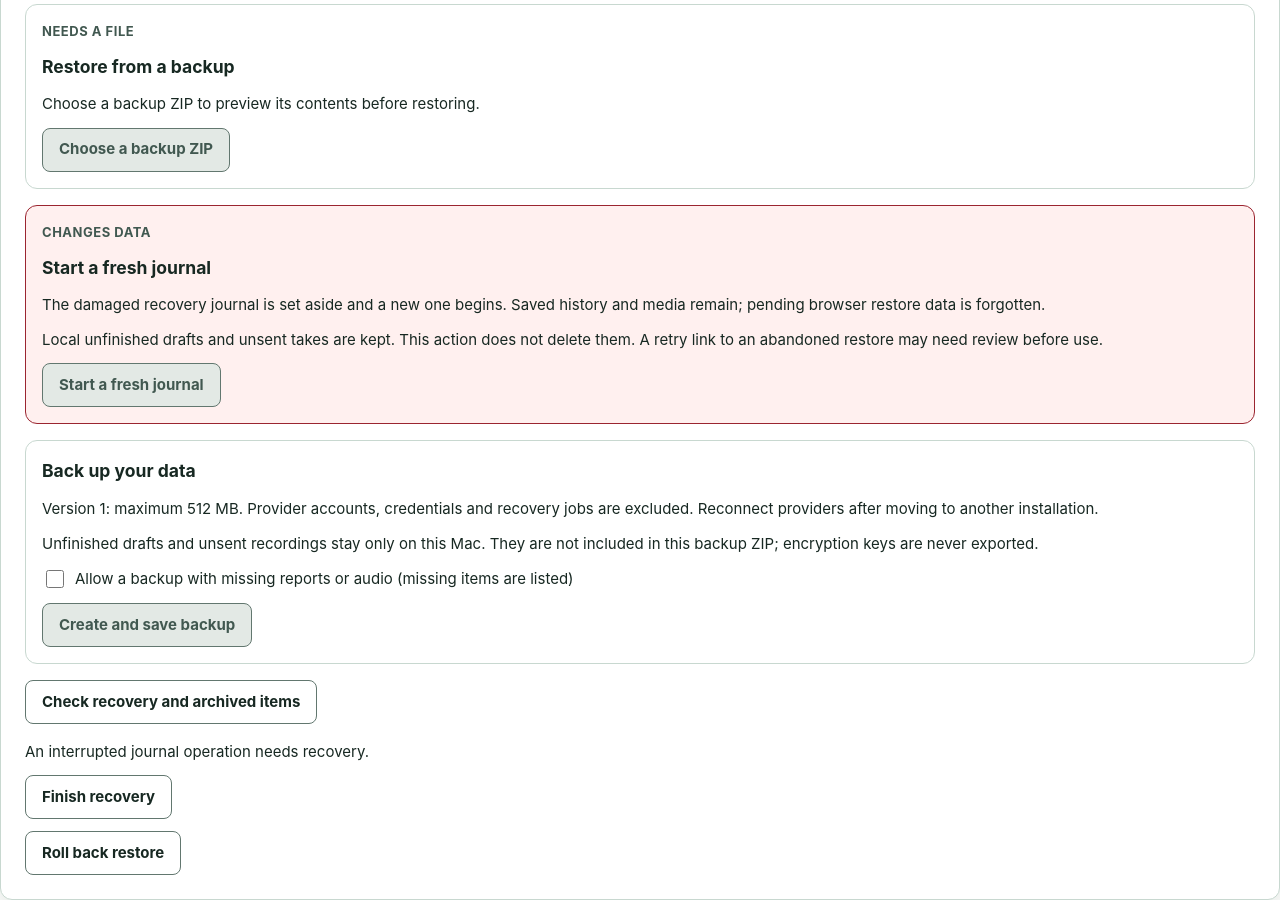
Test: journal recovery visibility › focuses the heading for a disabled fragment and retries the action when recovery enables it
This screenshot has width=1280, height=900.
(page scrolled)
Check: the button "Start a fresh journal" is disabled, box [42,363,221,407]
Click the button "Check recovery and archived items": click(171, 702) [25,680,317,724]
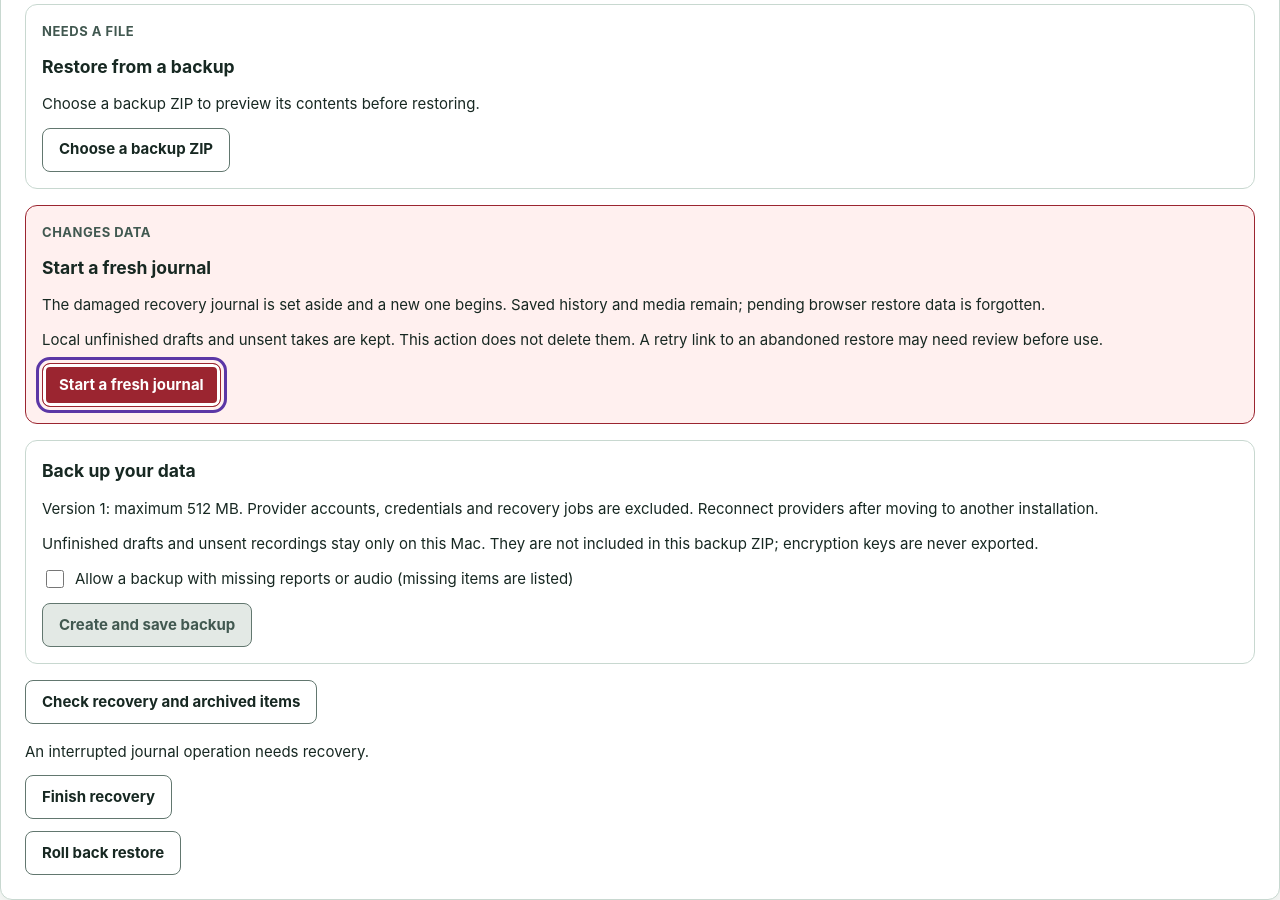
Check: the button "Start a fresh journal" is enabled, box [42,363,221,407]
